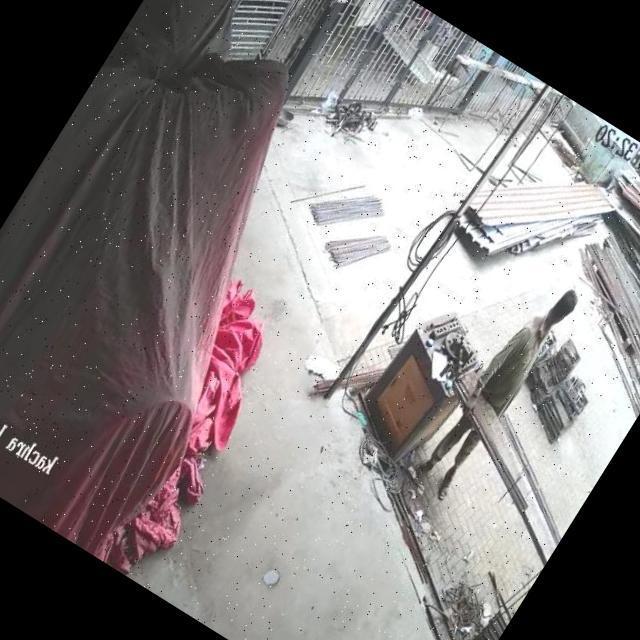person: (412, 265, 588, 505)
